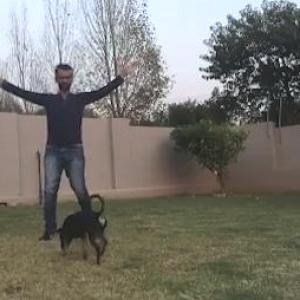takeoff: (1, 45, 138, 255)
